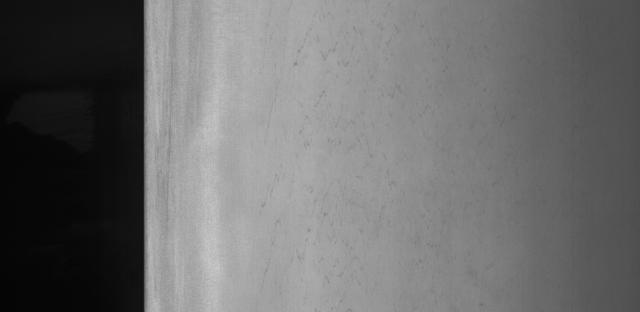silk_spot: (270, 29, 426, 267)
